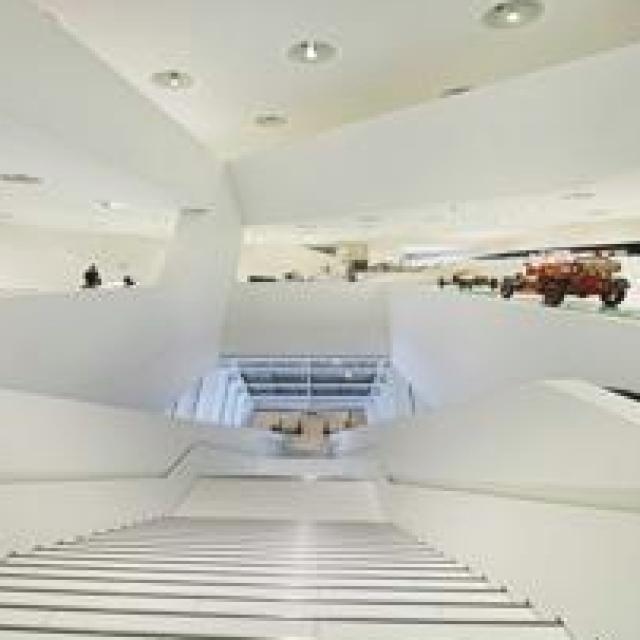downstair: (1, 435, 565, 640)
